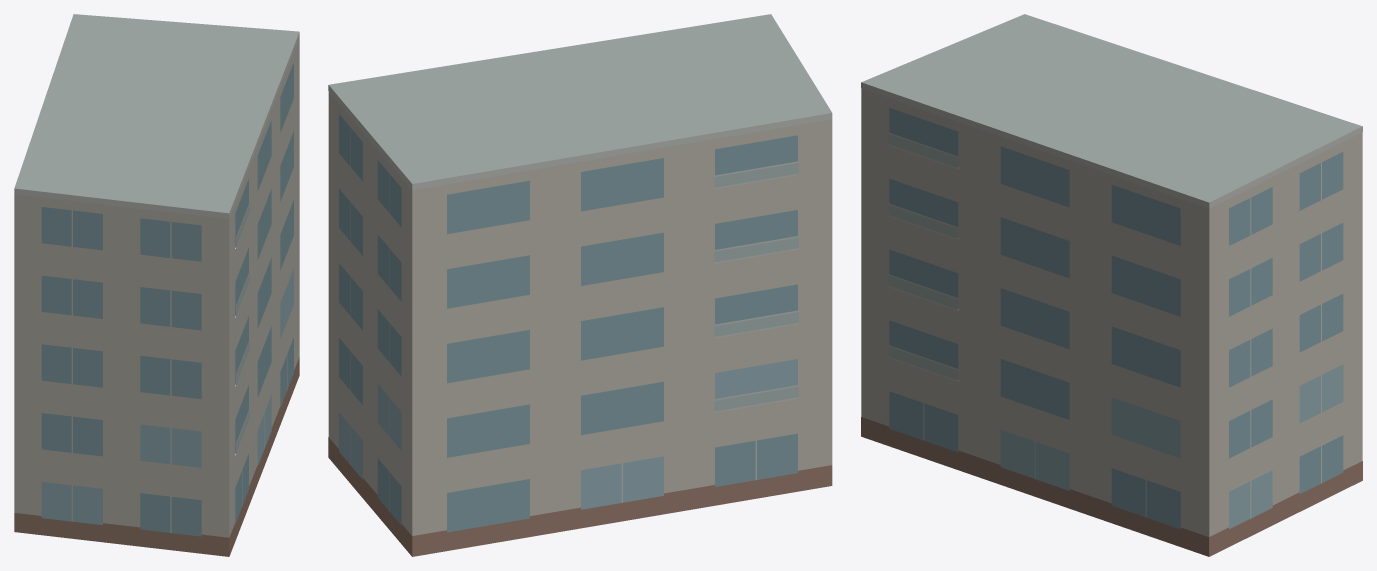
The model's file is survey-upis-32947239.glb.
3 views of the same model, side by side, from view 1: azimuth 30°, elevation 25°; view 2: azimuth 150°, elevation 25°; view 3: azimuth 270°, elevation 25° (orthographic). The views are drawn at different scales.
Visible parts, largest first — view 1: survey-upis-32947239.tmp; view 2: survey-upis-32947239.tmp; view 3: survey-upis-32947239.tmp.
Boxes of the visible parts, x1,y1,x2,y2 form: survey-upis-32947239.tmp: [14, 14, 299, 556]; survey-upis-32947239.tmp: [328, 14, 832, 556]; survey-upis-32947239.tmp: [861, 14, 1362, 556].
Size of the model in its own units: 16.68 by 14.6 by 18.74.
